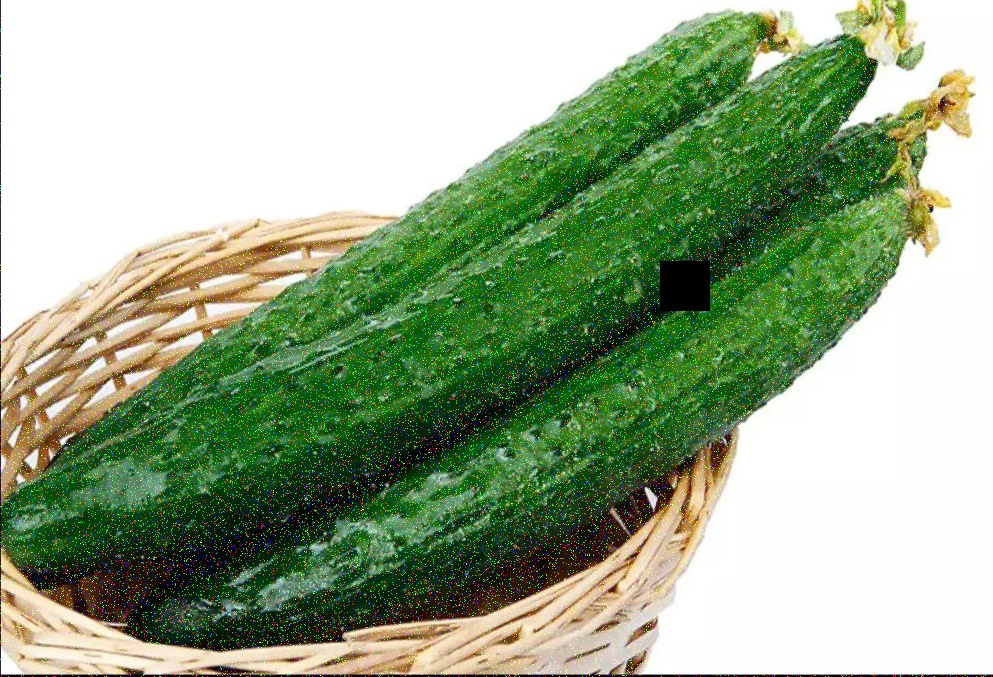cucumber: (17, 37, 879, 567), (174, 197, 909, 671)
